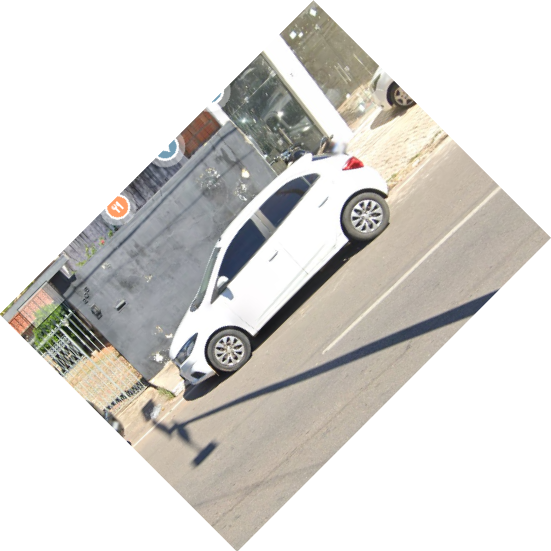car: (165, 149, 393, 391)
